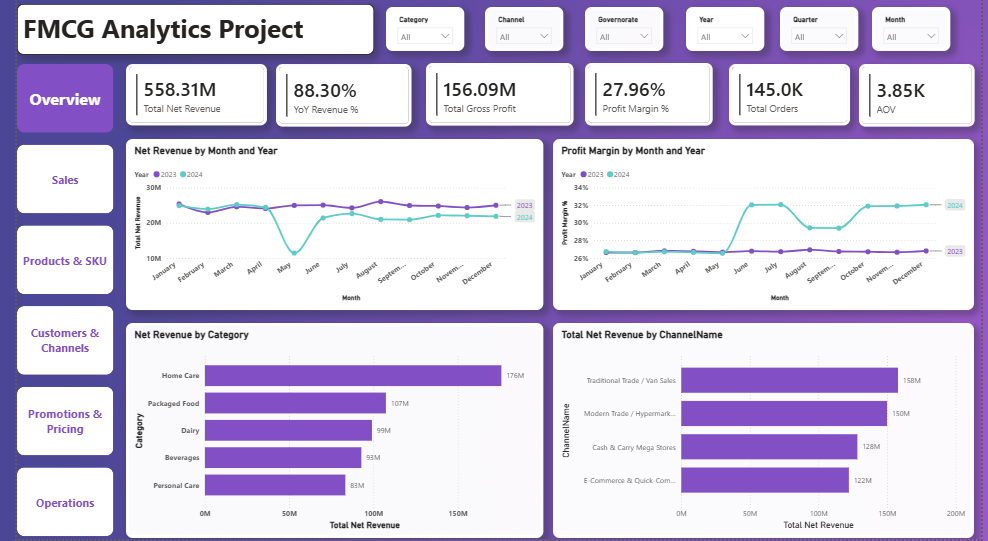

What the dashboard file says about the page in this screenshot:
{"tool":"powerbi","page":{"name":"Overview","canvas":[1600,900],"ordinal":0},"visuals":[{"type":"cardVisual","fields":{"Data":["_Measures.YoY Revenue %"]},"box":[429.9,111.6,225,104.3],"z":0},{"type":"cardVisual","fields":{"Data":["_Measures.Total Gross Profit"]},"box":[678.7,109.8,245.1,104.3],"z":1000},{"type":"cardVisual","fields":{"Data":["_Measures.Profit Margin %"]},"box":[943.9,109.8,212.2,104.3],"z":2000},{"type":"cardVisual","fields":{"Data":["_Measures.Total Orders"]},"box":[1181.7,111.6,201.2,102.4],"z":3000},{"type":"cardVisual","fields":{"Data":["_Measures.AOV"]},"box":[1397.6,111.6,192.1,104.3],"z":4000},{"type":"lineChart","title":"Net Revenue by Month and Year","fields":{"Category":["dim_calender.Month"],"Series":["dim_calender.Year"],"Y":["_Measures.Total Net Revenue"]},"box":[181.1,236,693.3,283.5],"z":5000},{"type":"lineChart","title":"Profit Margin by Month and Year","fields":{"Category":["dim_calender.Month"],"Series":["dim_calender.Year"],"Y":["_Measures.Profit Margin %"]},"box":[890.9,236,698.8,283.5],"z":6000},{"type":"clusteredBarChart","title":"Net Revenue by Category","fields":{"Category":["dim_products.Category"],"Y":["_Measures.Total Net Revenue"]},"box":[181.1,541.5,693.3,356.7],"z":7000},{"type":"clusteredBarChart","fields":{"Category":["dim_channels.ChannelName"],"Y":["_Measures.Total Net Revenue"]},"box":[890.9,541.5,698.8,356.7],"z":8000},{"type":"cardVisual","title":"Net Revenue","fields":{"Data":["_Measures.Total Net Revenue"]},"box":[181.1,111.6,234.1,102.4],"z":9000},{"type":"slicer","fields":{"Values":["dim_calender.Year"]},"box":[1110.4,16.5,130.2,73.2],"z":10000},{"type":"slicer","fields":{"Values":["dim_calender.Quarter"]},"box":[1267.7,16.5,130.2,73.2],"z":11000},{"type":"slicer","fields":{"Values":["dim_calender.Month"]},"box":[1419.5,16.5,130.2,73.2],"z":12000},{"type":"slicer","fields":{"Values":["dim_customers.Governorate"]},"box":[943.9,16.5,130.2,73.2],"z":13000},{"type":"slicer","fields":{"Values":["dim_channels.ChannelName"]},"box":[777.4,16.5,130.2,73.2],"z":14000},{"type":"slicer","fields":{"Values":["dim_products.Category"]},"box":[612.8,16.5,130.2,73.2],"z":15000},{"type":"textbox","box":[0,11,592.7,84.1],"z":16000},{"type":"pageNavigator","box":[0,111.6,161,786.6],"z":16001}]}

Visuals, with their boxes in screenshot pixels (x1, y1, x2, y2), scaled from the page's 1600x900 canvas onto the 988x541 screenshot:
cardVisual - _Measures.YoY Revenue %: (265,67,404,130)
cardVisual - _Measures.Total Gross Profit: (419,66,570,129)
cardVisual - _Measures.Profit Margin %: (583,66,714,129)
cardVisual - _Measures.Total Orders: (730,67,854,129)
cardVisual - _Measures.AOV: (863,67,982,130)
"Net Revenue by Month and Year" lineChart: (112,142,540,312)
"Profit Margin by Month and Year" lineChart: (550,142,982,312)
"Net Revenue by Category" clusteredBarChart: (112,326,540,540)
clusteredBarChart - dim_channels.ChannelName x _Measures.Total Net Revenue: (550,326,982,540)
"Net Revenue" cardVisual: (112,67,256,129)
slicer - dim_calender.Year: (686,10,766,54)
slicer - dim_calender.Quarter: (783,10,863,54)
slicer - dim_calender.Month: (877,10,957,54)
slicer - dim_customers.Governorate: (583,10,663,54)
slicer - dim_channels.ChannelName: (480,10,560,54)
slicer - dim_products.Category: (378,10,459,54)
textbox: (0,7,366,57)
pageNavigator: (0,67,99,540)
